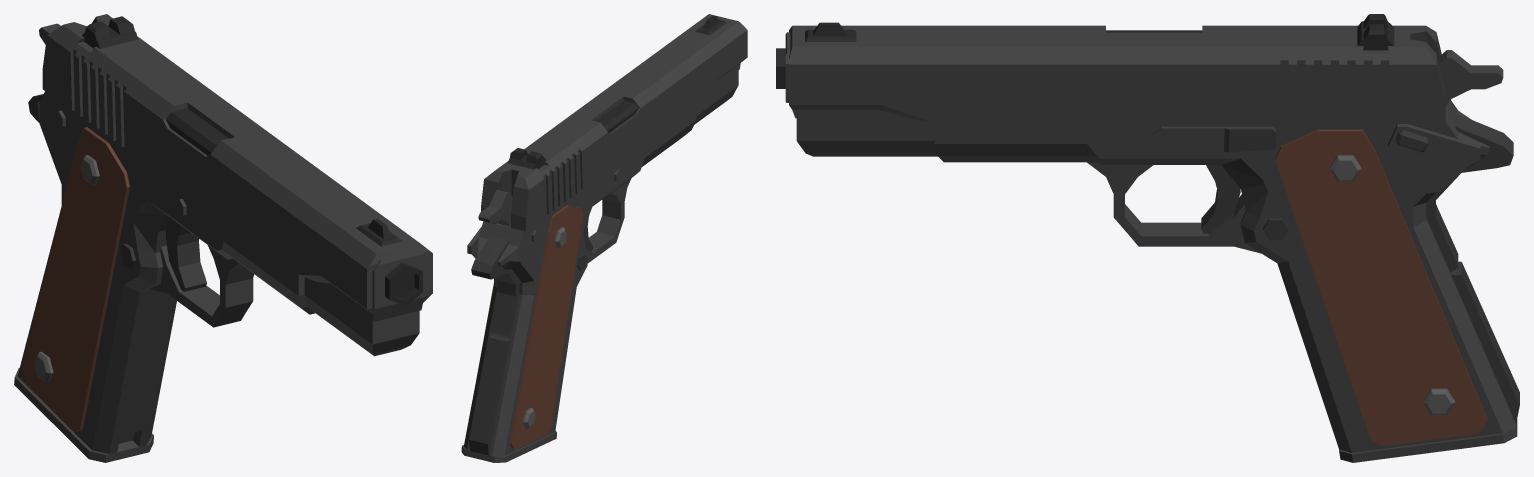
Rendered from Low_Poly_Pistol_M1911.glb.
The picture shows the model from 3 angles, left to right: view 1: azimuth 30°, elevation 25°; view 2: azimuth 150°, elevation 25°; view 3: azimuth 270°, elevation 25°; orthographic projection. The views are drawn at different scales.
Visible parts, largest first — view 1: Pistol_E_Receiver_Modern Weapon Pack Vol.01_0, Pistol_E_BarrelGuard_Modern Weapon Pack Vol.01_0, Pistol_E_Trigger_Modern Weapon Pack Vol.01_0, Pistol_E_Mag_Modern Weapon Pack Vol.01_0, Pistol_E_Barrel_Modern Weapon Pack Vol.01_0; view 2: Pistol_E_Receiver_Modern Weapon Pack Vol.01_0, Pistol_E_BarrelGuard_Modern Weapon Pack Vol.01_0, Pistol_E_Bolt_Modern Weapon Pack Vol.01_0, Pistol_E_Mag_Modern Weapon Pack Vol.01_0; view 3: Pistol_E_Receiver_Modern Weapon Pack Vol.01_0, Pistol_E_BarrelGuard_Modern Weapon Pack Vol.01_0, Pistol_E_Bolt_Modern Weapon Pack Vol.01_0, Pistol_E_Mag_Modern Weapon Pack Vol.01_0, Pistol_E_Trigger_Modern Weapon Pack Vol.01_0.
Part boxes in pixels (x1,y1,x2,y2): Pistol_E_Receiver_Modern Weapon Pack Vol.01_0: (17, 91, 314, 453); Pistol_E_BarrelGuard_Modern Weapon Pack Vol.01_0: (42, 14, 432, 356); Pistol_E_Trigger_Modern Weapon Pack Vol.01_0: (166, 219, 206, 291); Pistol_E_Mag_Modern Weapon Pack Vol.01_0: (14, 368, 153, 462); Pistol_E_Barrel_Modern Weapon Pack Vol.01_0: (385, 262, 422, 305); Pistol_E_Receiver_Modern Weapon Pack Vol.01_0: (464, 107, 696, 456); Pistol_E_BarrelGuard_Modern Weapon Pack Vol.01_0: (481, 14, 747, 231); Pistol_E_Bolt_Modern Weapon Pack Vol.01_0: (478, 190, 512, 226); Pistol_E_Mag_Modern Weapon Pack Vol.01_0: (461, 430, 556, 462); Pistol_E_Receiver_Modern Weapon Pack Vol.01_0: (934, 100, 1519, 452); Pistol_E_BarrelGuard_Modern Weapon Pack Vol.01_0: (785, 14, 1445, 156); Pistol_E_Bolt_Modern Weapon Pack Vol.01_0: (1437, 50, 1503, 105); Pistol_E_Mag_Modern Weapon Pack Vol.01_0: (1339, 419, 1517, 462); Pistol_E_Trigger_Modern Weapon Pack Vol.01_0: (1201, 165, 1240, 233).
Size of the model in its own units: 0.145 by 0.7348 by 1.16.
1 material, 1 textured.
